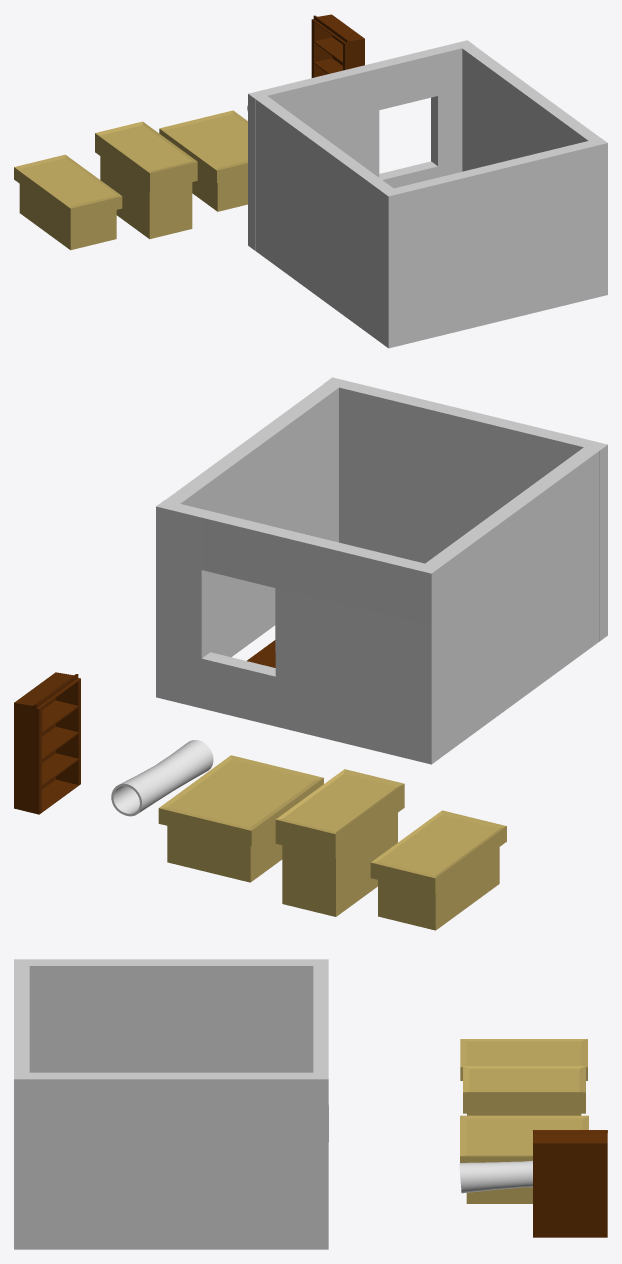
Rendered from STARTLOKA1.fbx.
3 views of the same model, one above another, from view 1: azimuth 30°, elevation 25°; view 2: azimuth 150°, elevation 25°; view 3: azimuth 270°, elevation 25° (orthographic). The views are drawn at different scales.
Visible parts, largest first — view 1: Cube.004, Cube.002, Cube.003, Cube.001, Cube.007, Cube.008, Cube.005, Cube; view 2: Cube.003, Cube.002, Cube.004, Cube.001, Cube.007, Cube.005, Cube.008, Cube, Cylinder; view 3: Cube.001, Cube.002, Cube, Cube.007, Cube.005, Cube.003, Cube.004, Cube.008, Cylinder.
Boxes of the visible parts, left/top/right/bottom form: Cube.004: left=381, top=138, right=607, bottom=348; Cube.002: left=255, top=96, right=393, bottom=342; Cube.003: left=248, top=40, right=474, bottom=250; Cube.001: left=462, top=45, right=600, bottom=171; Cube.007: left=95, top=121, right=197, bottom=239; Cube.008: left=14, top=154, right=122, bottom=250; Cube.005: left=159, top=110, right=247, bottom=211; Cube: left=311, top=14, right=364, bottom=77; Cube.003: left=156, top=500, right=440, bottom=764; Cube.002: left=425, top=447, right=598, bottom=757; Cube.004: left=324, top=377, right=607, bottom=641; Cube.001: left=165, top=384, right=338, bottom=657; Cube.007: left=275, top=769, right=404, bottom=916; Cube.005: left=158, top=755, right=323, bottom=882; Cube.008: left=370, top=810, right=506, bottom=930; Cube: left=14, top=672, right=80, bottom=814; Cylinder: left=111, top=740, right=213, bottom=816; Cube.001: left=29, top=1072, right=313, bottom=1249; Cube.002: left=29, top=959, right=313, bottom=1072; Cube: left=533, top=1130, right=607, bottom=1237; Cube.007: left=463, top=1066, right=585, bottom=1115; Cube.005: left=460, top=1115, right=588, bottom=1203; Cube.003: left=313, top=959, right=328, bottom=1249; Cube.004: left=14, top=959, right=29, bottom=1249; Cube.008: left=460, top=1039, right=587, bottom=1115; Cylinder: left=459, top=1160, right=532, bottom=1193.
Bounding box in the file's own units: 9215 × 4760 × 12511.
